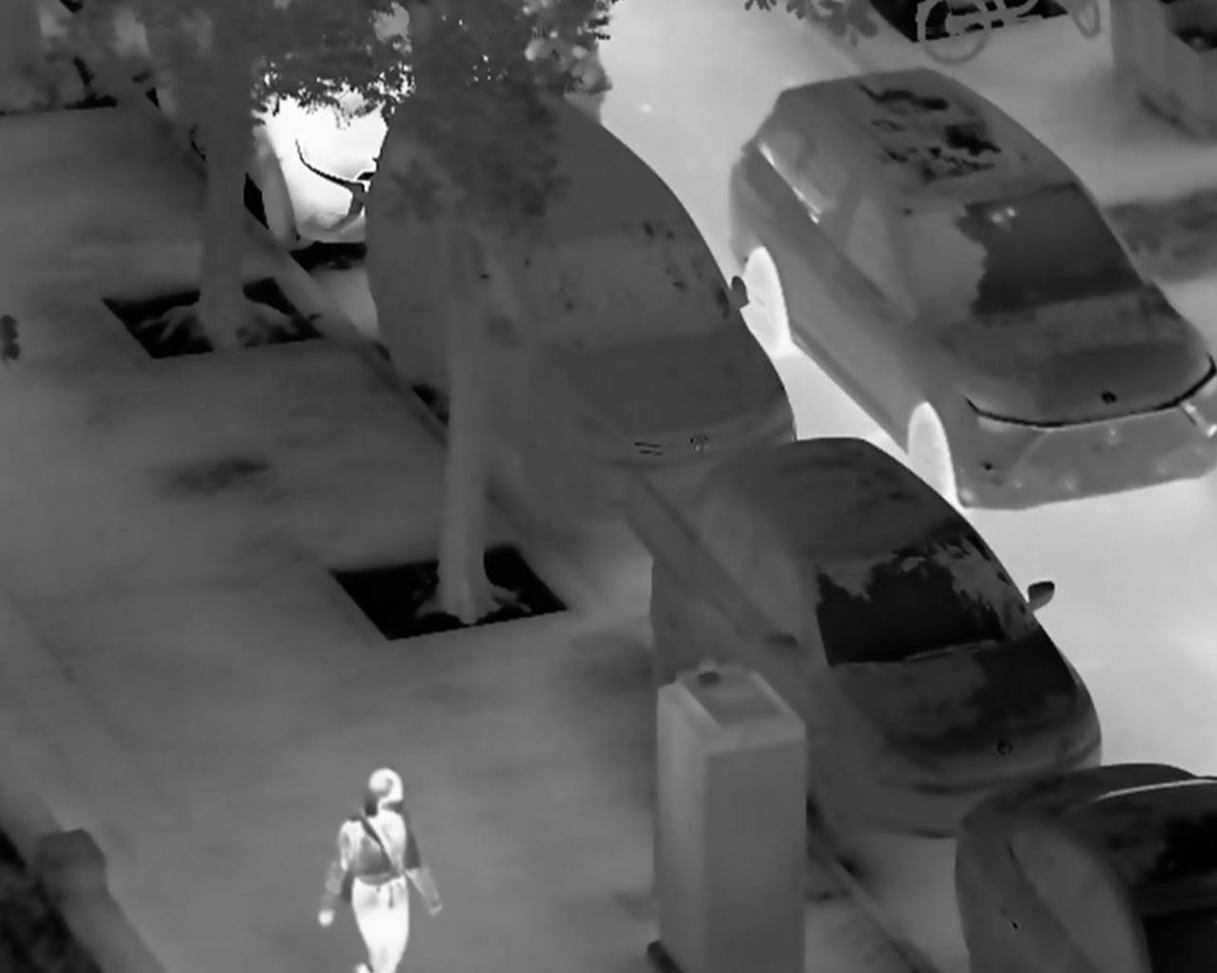person: (313, 764, 448, 973)
